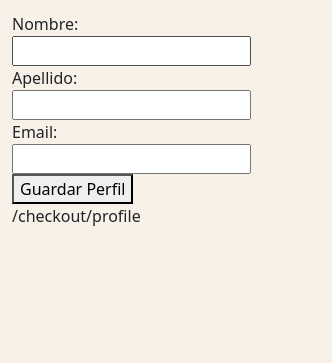
Scenario: ProfileForm › muestra errores de campos requeridos al enviar vacío
Click the button "Guardar Perfil": (73, 189) [12,174,134,204]
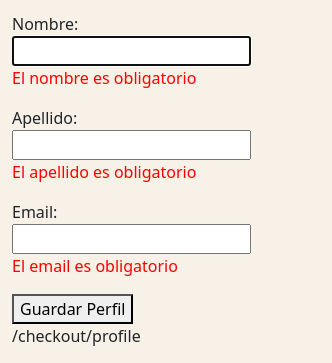
Now the text "El nombre es obligatorio" is shown, box [12,67,196,89]
Now the text "El apellido es obligatorio" is shown, box [12,161,196,183]
Now the text "El email es obligatorio" is shown, box [12,255,178,277]
